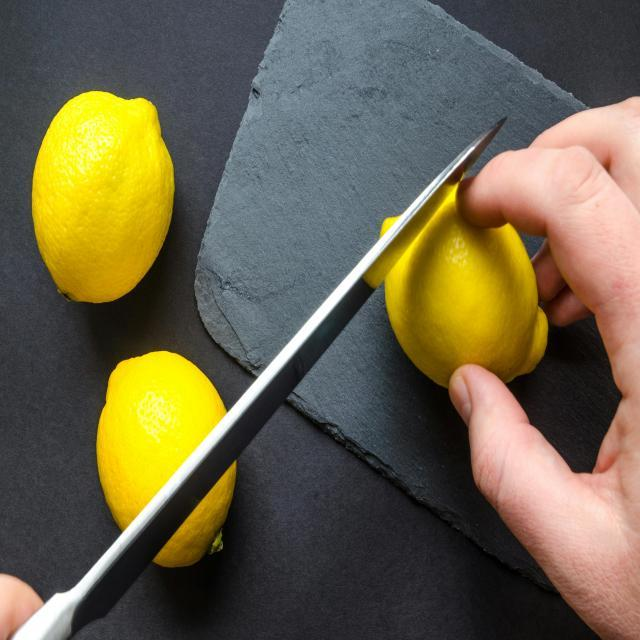Knife: (11, 118, 504, 639)
